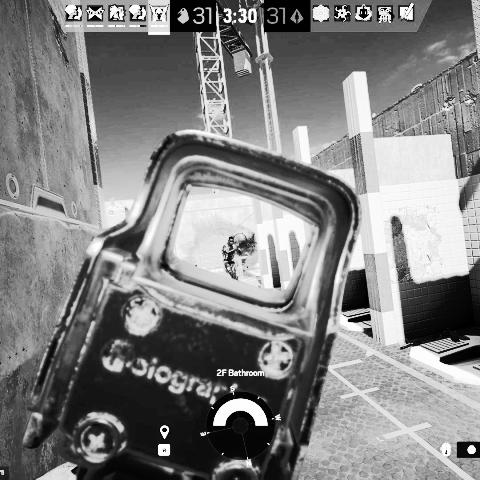Character: (220, 235, 243, 281)
Head: (227, 236, 236, 247)
